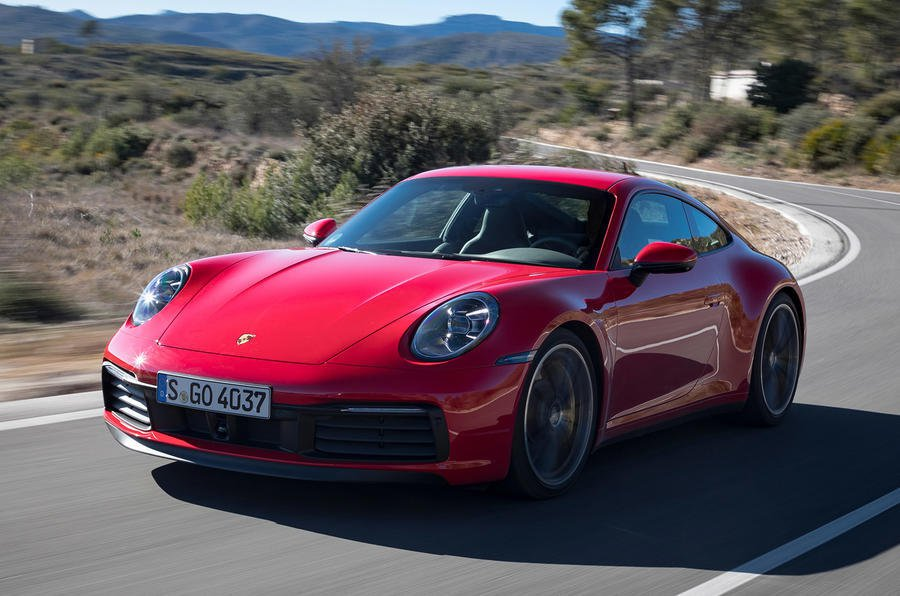car: (105, 163, 810, 481)
